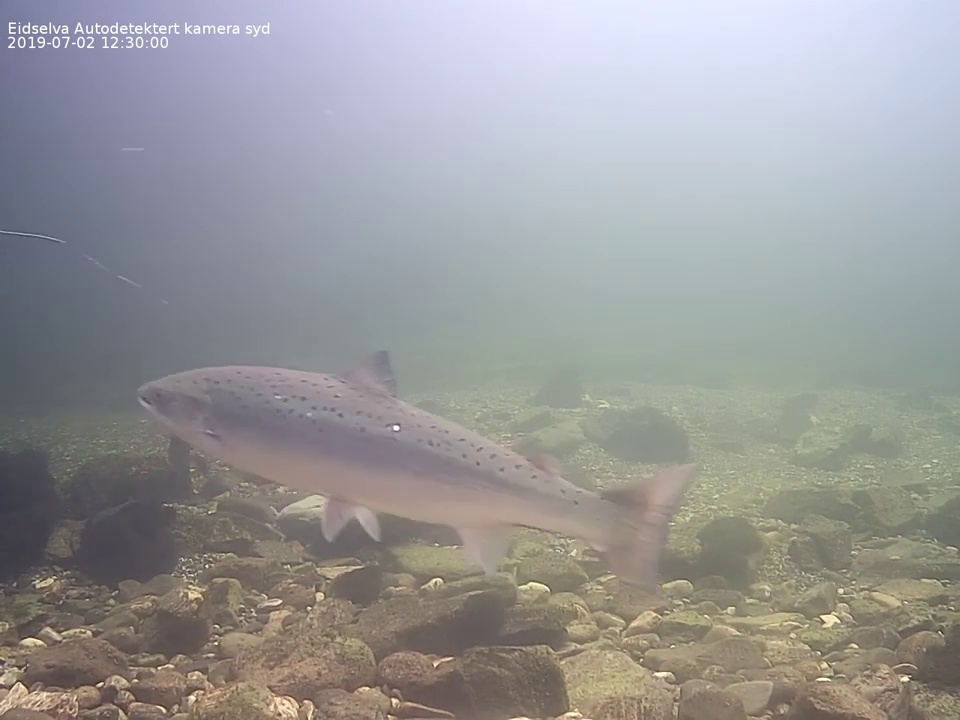salmon: (135, 347, 708, 604)
